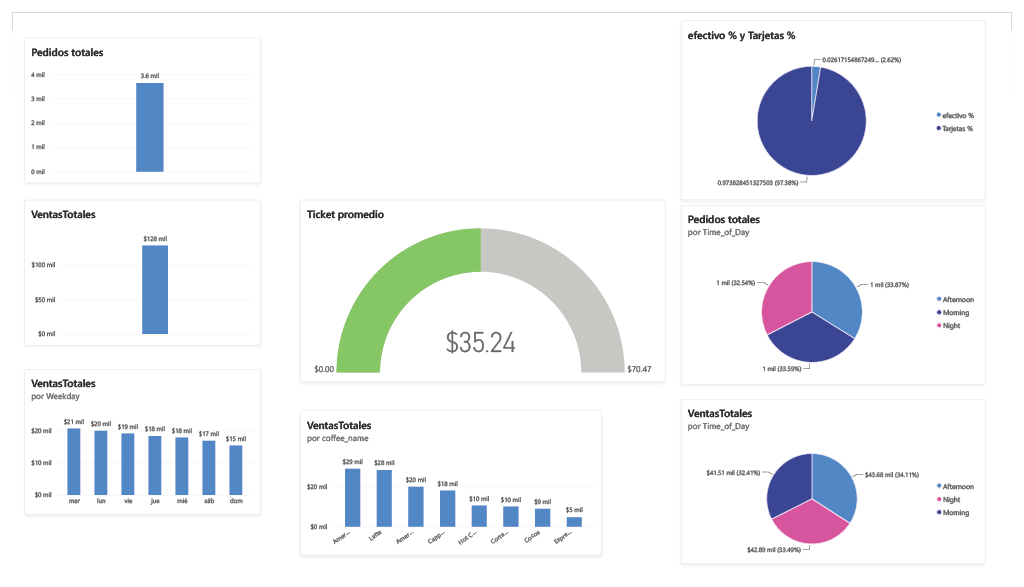

The dashboard page shown, as its layout file describes it:
{"tool":"powerbi","page":{"name":"Dashboard","canvas":[1920,1080],"ordinal":0},"visuals":[{"type":"clusteredColumnChart","fields":{"Y":["Coffe_sales.VentasTotales"]},"box":[22.5,360,454,280],"z":0},{"type":"pieChart","fields":{"Y":["Coffe_sales.efectivo %","Coffe_sales.Tarjetas %"]},"box":[1285,15,585,345],"z":2001},{"type":"clusteredColumnChart","fields":{"Y":["Coffe_sales.Pedidos totales"]},"box":[22.5,47.5,454,280],"z":2002},{"type":"gauge","fields":{"Y":["Coffe_sales.Ticket promedio"]},"box":[552.5,360,702.5,350],"z":2003},{"type":"columnChart","fields":{"Category":["Coffe_sales.Weekday"],"Y":["Coffe_sales.VentasTotales"]},"box":[22.5,685,454,280],"z":2005},{"type":"columnChart","fields":{"Category":["Coffe_sales.coffee_name"],"Y":["Coffe_sales.VentasTotales"]},"box":[552.5,765,580,277.5],"z":2006},{"type":"pieChart","fields":{"Category":["Coffe_sales.Time_of_Day"],"Y":["Coffe_sales.Pedidos totales"]},"box":[1285,370,585,345],"z":2009},{"type":"pieChart","fields":{"Category":["Coffe_sales.Time_of_Day"],"Y":["Coffe_sales.VentasTotales"]},"box":[1285,742.5,585,317.5],"z":2010}]}

Visuals, with their boxes in screenshot pixels (x1, y1, x2, y2), scaled from the page's 1920x1080 canvas onto the 1024x587 screenshot:
clusteredColumnChart - Coffe_sales.VentasTotales: BBox(12, 196, 254, 348)
pieChart - Coffe_sales.efectivo % x Coffe_sales.Tarjetas %: BBox(685, 8, 997, 196)
clusteredColumnChart - Coffe_sales.Pedidos totales: BBox(12, 26, 254, 178)
gauge - Coffe_sales.Ticket promedio: BBox(295, 196, 669, 386)
columnChart - Coffe_sales.Weekday x Coffe_sales.VentasTotales: BBox(12, 372, 254, 524)
columnChart - Coffe_sales.coffee_name x Coffe_sales.VentasTotales: BBox(295, 416, 604, 567)
pieChart - Coffe_sales.Time_of_Day x Coffe_sales.Pedidos totales: BBox(685, 201, 997, 389)
pieChart - Coffe_sales.Time_of_Day x Coffe_sales.VentasTotales: BBox(685, 404, 997, 576)
